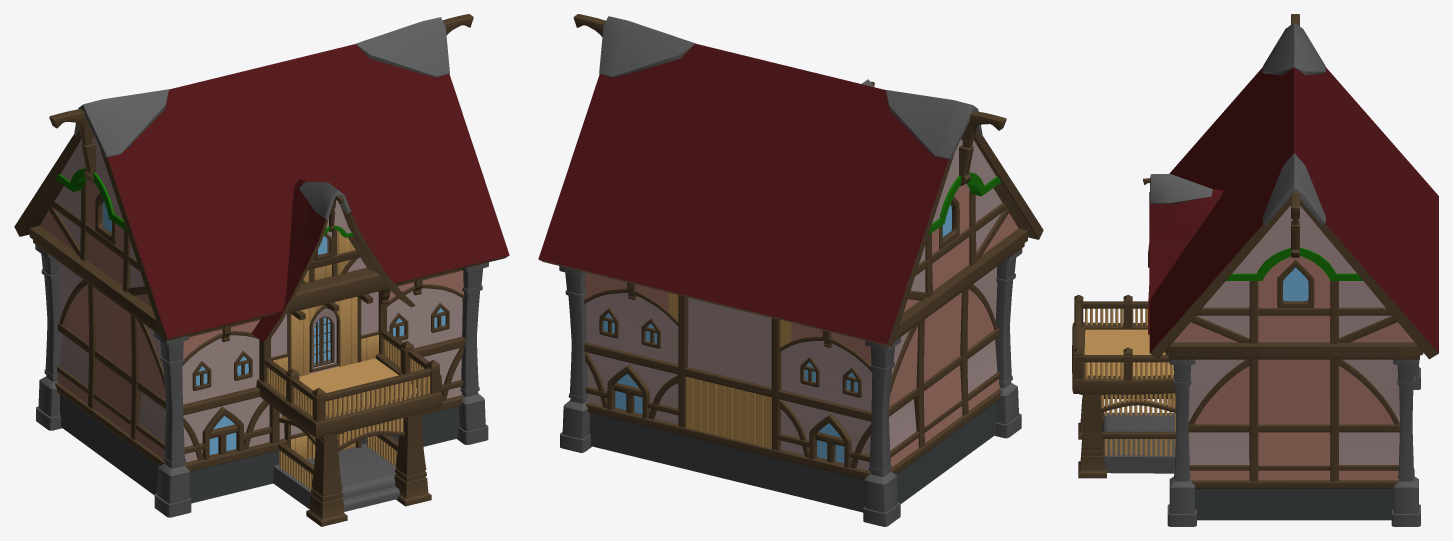
Rendered from House.fbx.
3 renders of one model, left to right at view 1: azimuth 30°, elevation 25°; view 2: azimuth 150°, elevation 25°; view 3: azimuth 270°, elevation 25°, orthographic. The views are drawn at different scales.
Parts seen in each view (by area): view 1: low, Cube, Cube.005, Plane, Cube.041, Cube.039, Cube.014, Cube.010, Cube.004, Cube.055, Cube.018, Cube.012 (+25 smaller); view 2: low, Cube, Cube.041, Cube.005, Plane, Cube.004, Cube.039, Cube.053, Cube.007, Cube.032, Cube.040, Cube.008 (+12 smaller); view 3: low, Plane, Cube, Cube.005, Cube.041, Cube.014, Cube.039, Cube.042, Cube.055, Cube.004, Cube.040, Cube.012 (+16 smaller).
Boxes of the visible parts, x1,y1,x2,y2 form: low: (14, 44, 509, 341); Cube: (59, 182, 462, 462); Cube.005: (35, 244, 488, 517); Plane: (39, 180, 165, 458); Cube.041: (60, 394, 459, 503); Cube.039: (74, 17, 449, 157); Cube.014: (264, 330, 430, 489); Cube.010: (306, 411, 431, 526); Cube.004: (54, 323, 465, 471); Cube.055: (251, 179, 415, 342); Cube.018: (256, 353, 442, 437); Cube.012: (273, 443, 396, 508); low: (538, 44, 1043, 346); Cube: (586, 79, 997, 470); Cube.041: (589, 401, 996, 512); Cube.005: (559, 248, 1022, 526); Plane: (889, 184, 1017, 467); Cube.004: (584, 328, 1001, 479); Cube.039: (599, 16, 982, 159); Cube.053: (686, 376, 771, 448); Cube.007: (584, 273, 872, 371); Cube.032: (678, 295, 781, 450); Cube.040: (895, 228, 1027, 337); Cube.008: (585, 352, 871, 468); low: (1149, 67, 1438, 359); Plane: (1173, 256, 1414, 480); Cube: (1150, 174, 1399, 464); Cube.005: (1167, 359, 1420, 526); Cube.041: (1195, 489, 1393, 520); Cube.014: (1075, 301, 1175, 455); Cube.039: (1262, 22, 1325, 225); Cube.042: (1197, 267, 1391, 337); Cube.055: (1148, 189, 1223, 334); Cube.004: (1188, 424, 1399, 488); Cube.040: (1165, 342, 1423, 355); Cube.012: (1102, 412, 1174, 473).
Size of the model in its own units: 6819 by 5720 by 5452.
